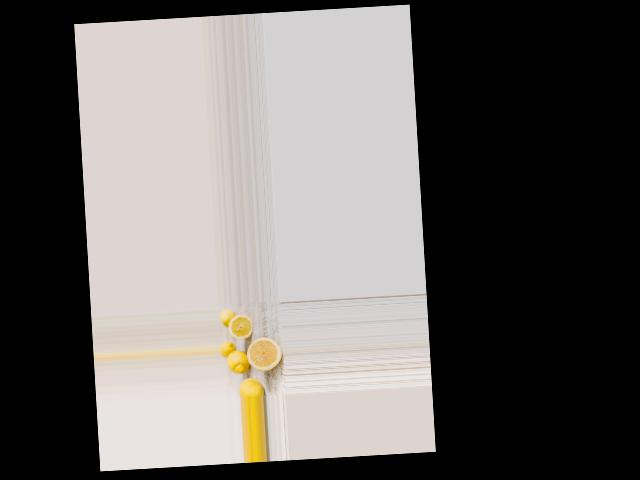lemon: (237, 375, 266, 397)
